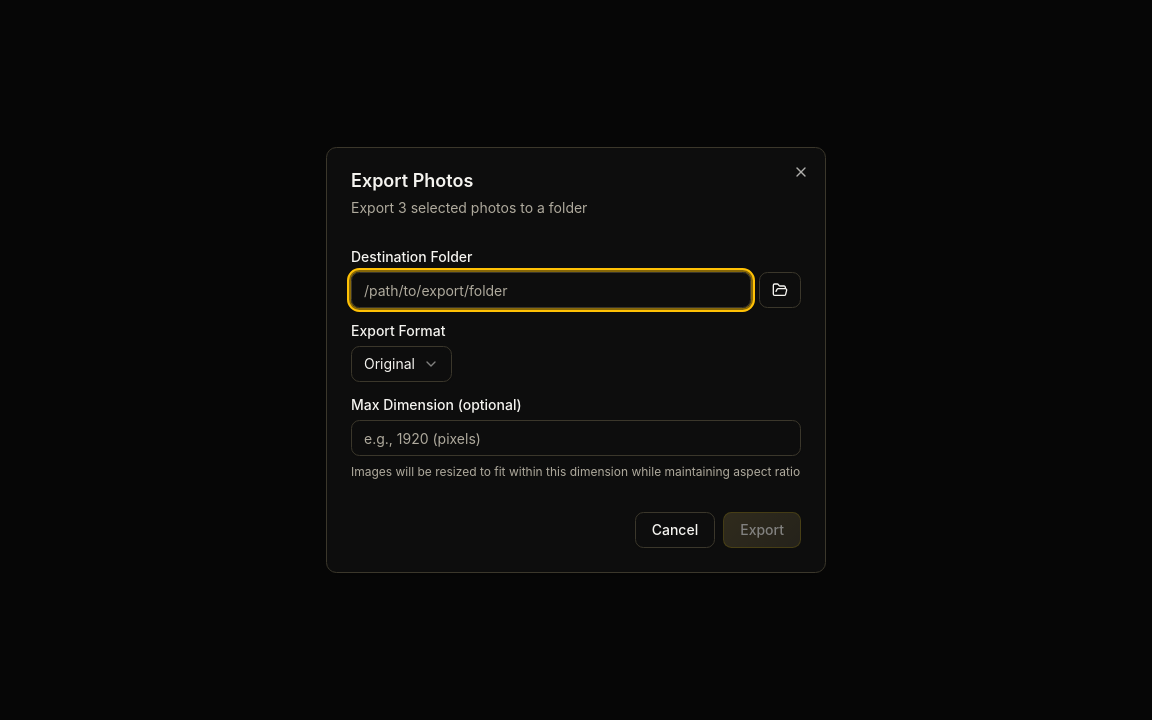
BatchExportDialog Component › Destination Selection › updates destination when folder is selected
Click the 2nd button at (780, 290), box [759,272,801,308]
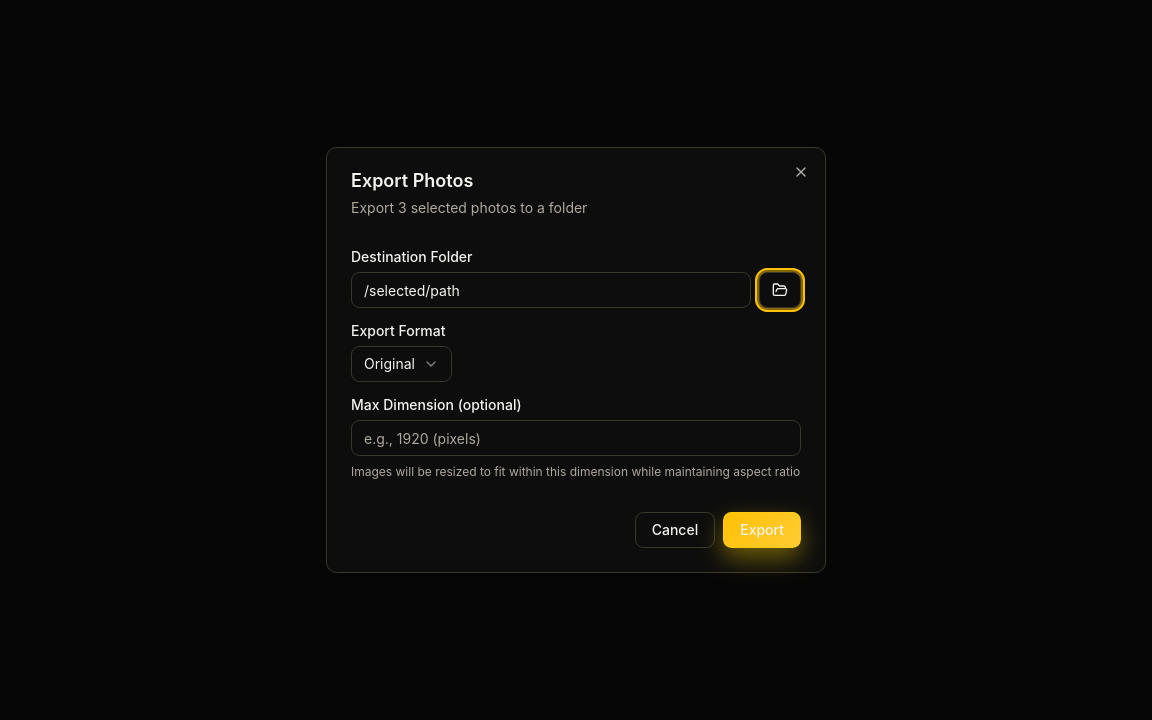
Result: the field labelled "Destination Folder" holds "/selected/path" at [351,272,751,308]
